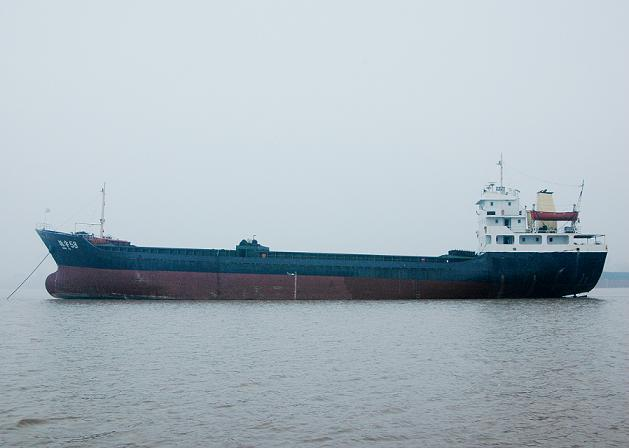Cargoship: (34, 163, 610, 307)
